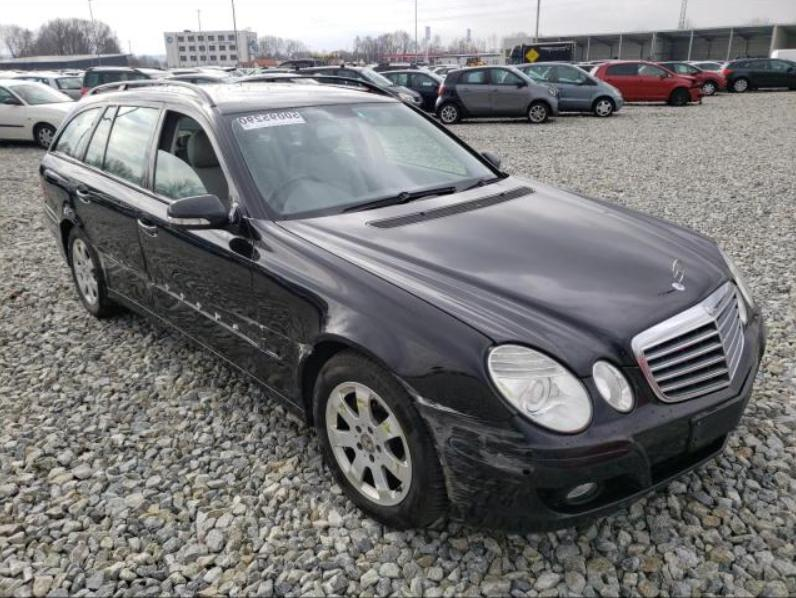Dent: (422, 380, 528, 466), (258, 312, 315, 366)
Missing part: (150, 278, 260, 353), (99, 243, 151, 285), (97, 242, 147, 284), (260, 340, 302, 378)
Paint chip: (397, 375, 466, 505), (476, 447, 539, 474)
Scratch: (259, 321, 314, 359), (203, 299, 260, 329), (468, 418, 522, 441), (453, 483, 493, 495), (506, 478, 528, 489), (454, 456, 472, 468), (471, 478, 500, 485), (512, 445, 533, 454), (457, 500, 474, 507)
